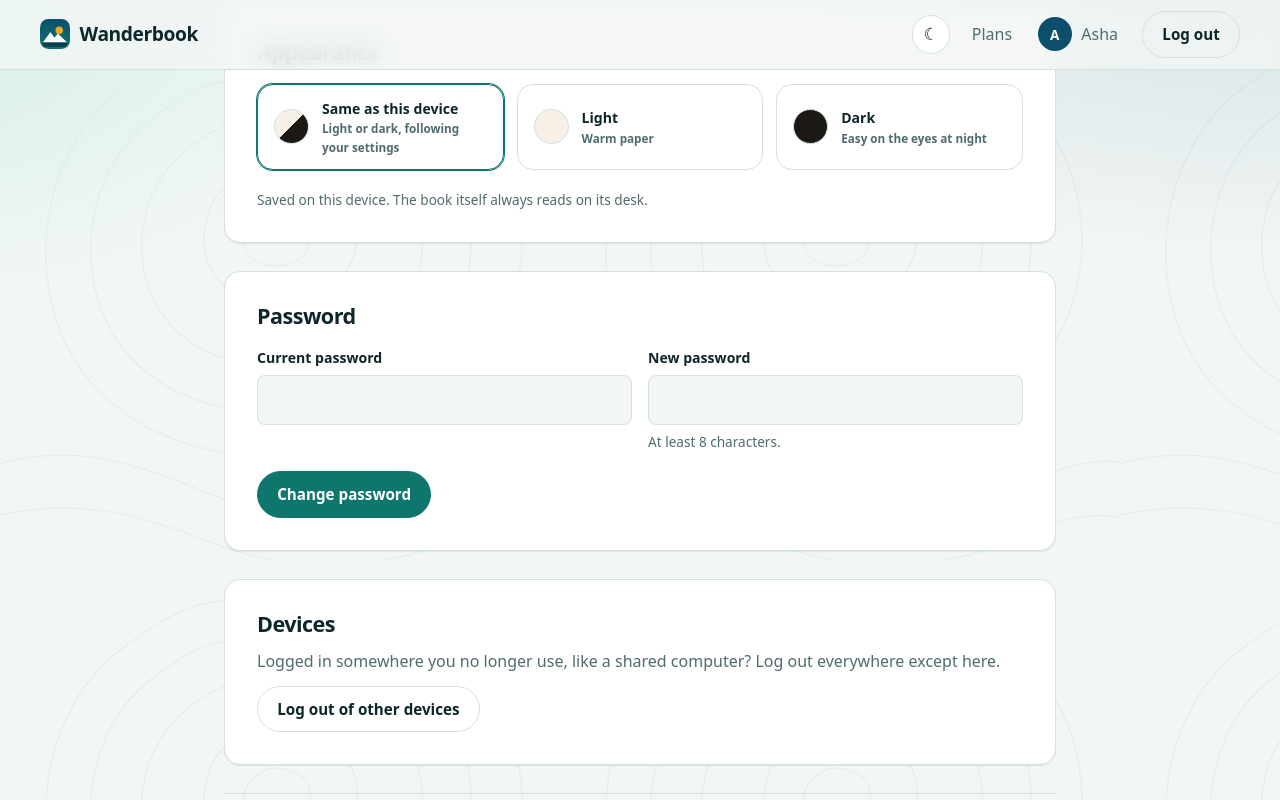
Test case: the account page › changes the password and says the other devices are logged out
(page scrolled)
In the password field labelled "Current password": (444, 400) x1=257 y1=375 x2=632 y2=425, type "old-one-123"
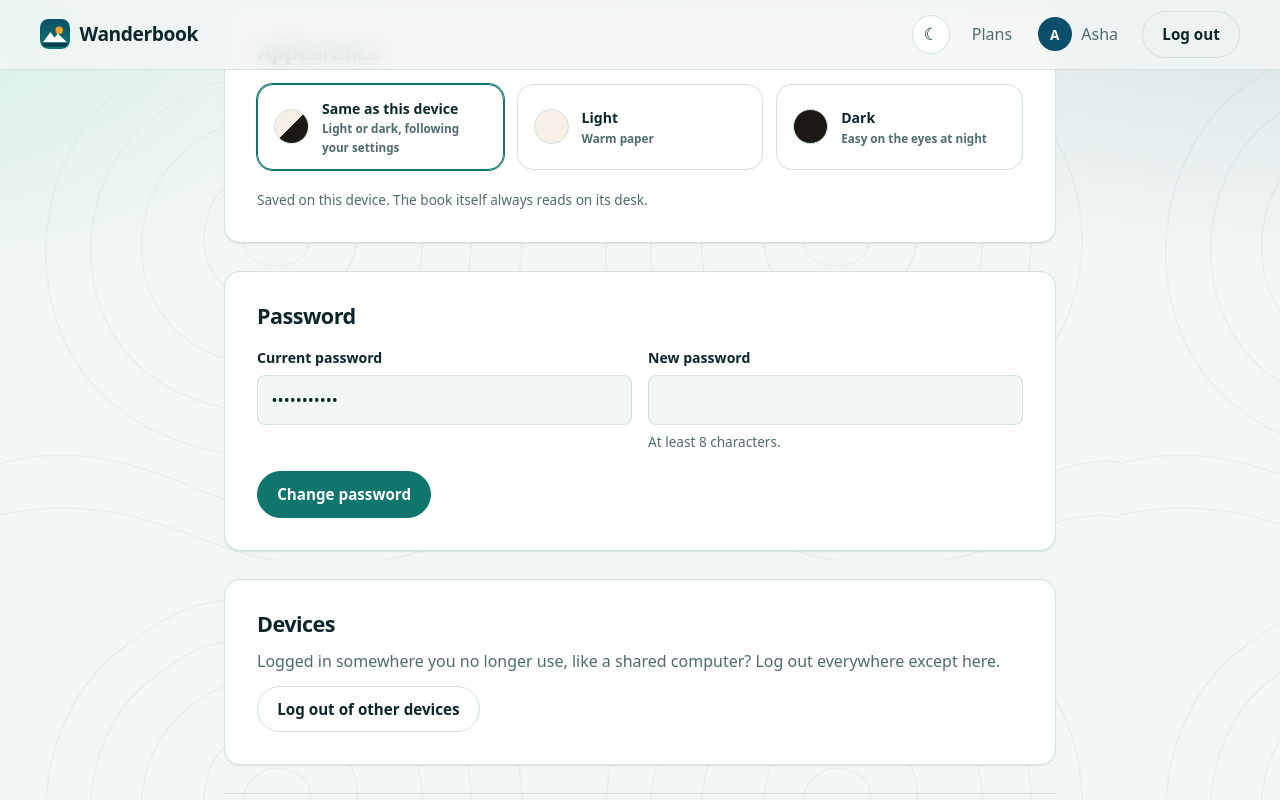
In the password field labelled "New password": (836, 400) x1=648 y1=375 x2=1023 y2=425, type "new-one-456"
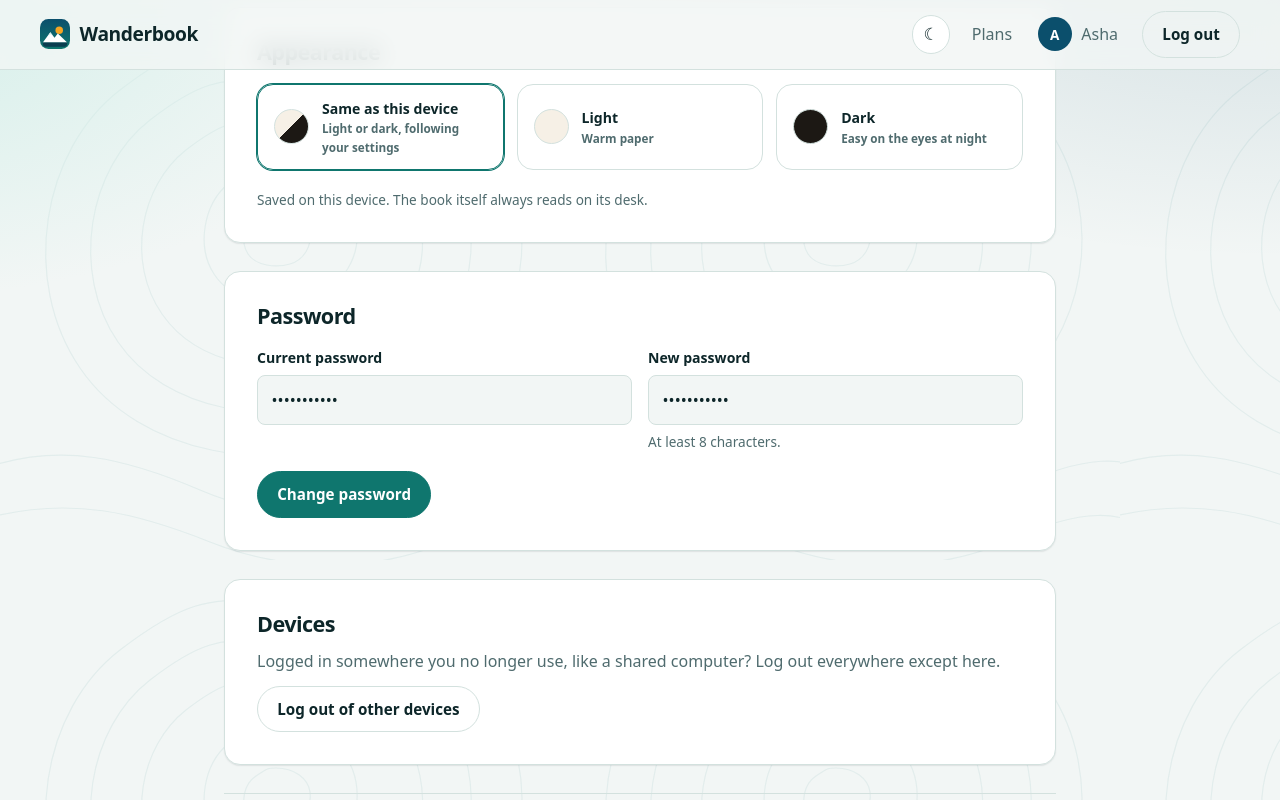
Click the button "Change password": (344, 494) x1=257 y1=471 x2=431 y2=518
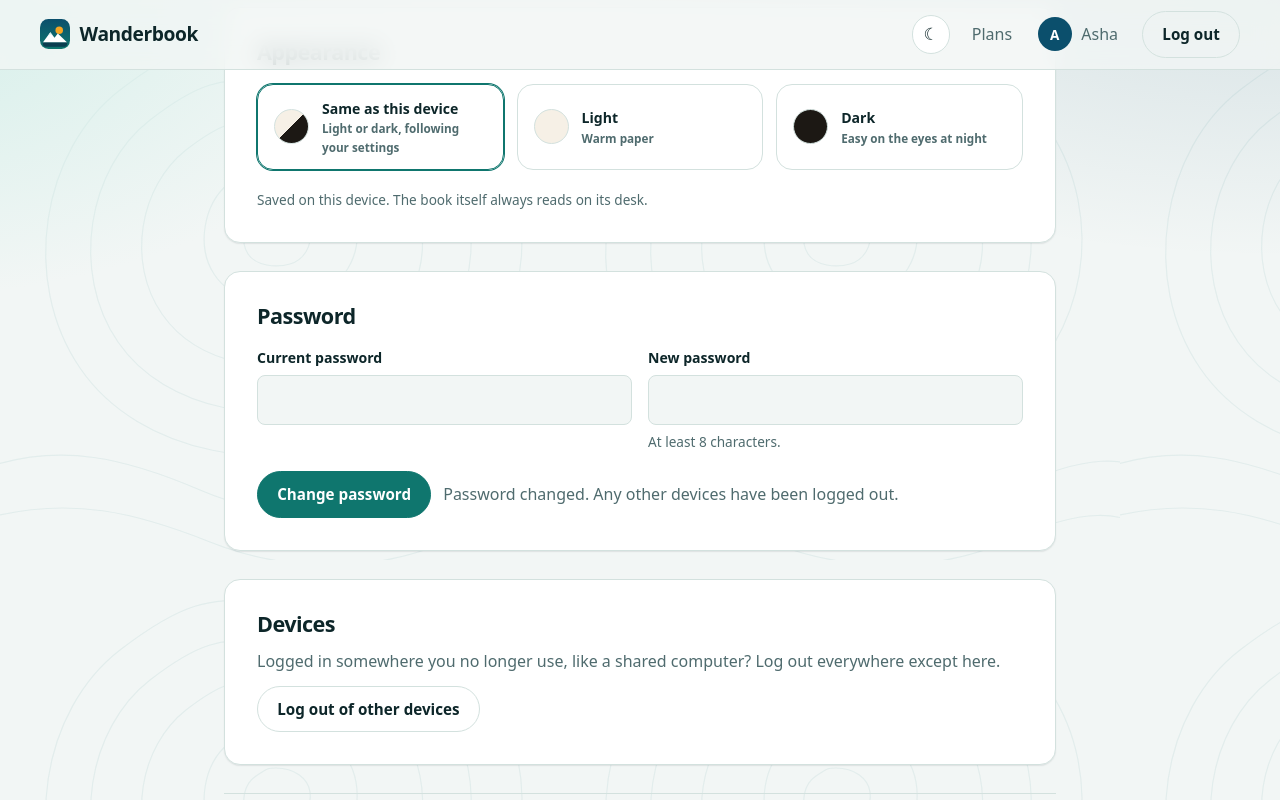
Check: the text "Password changed. Any other devices have been logged out." is shown, box x1=443 y1=482 x2=898 y2=507
